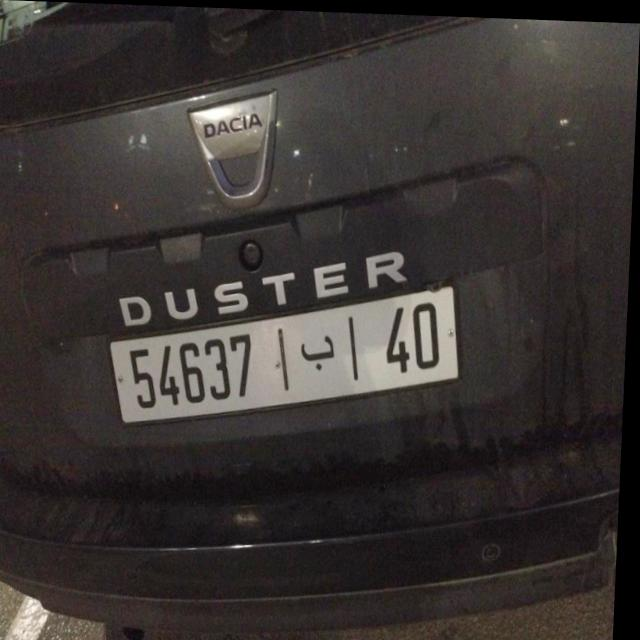License-Plate: (114, 283, 462, 421)
